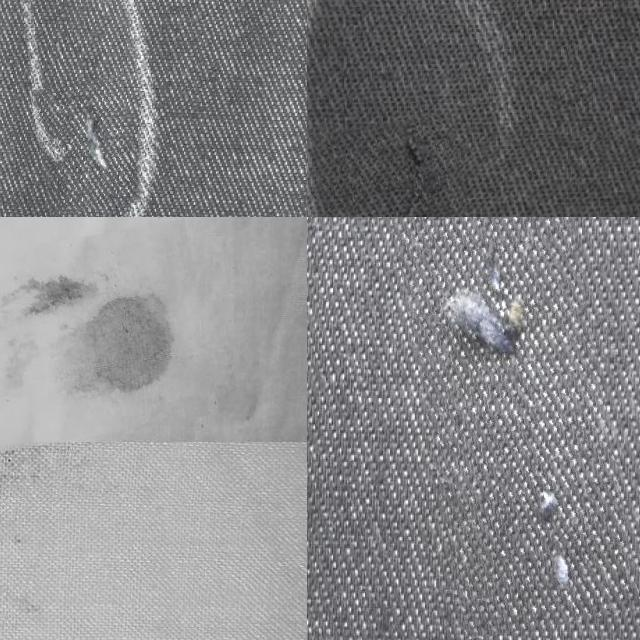Hole: (0, 229, 211, 447), (0, 442, 148, 635)
Thread_other: (409, 217, 623, 634), (318, 117, 476, 217), (35, 79, 139, 213)
